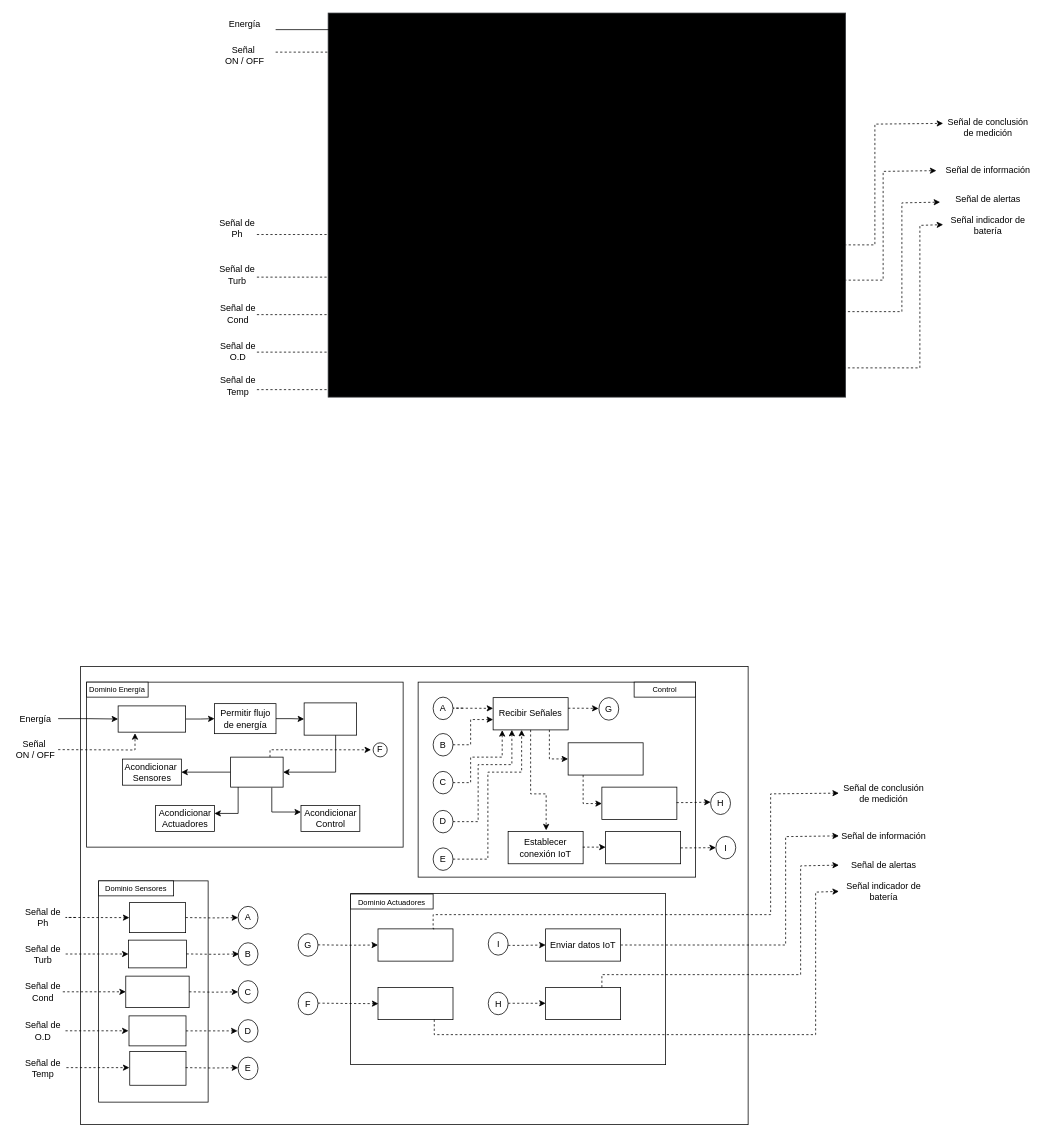
The diagram is 1046 pixels wide and 1139 high, and some of its shapes have lost their labels. The centre of each missing label's shape, as x and y in pixels:
Almacenar: the point at 256,771
Comparar variables: the point at 605,758
Común AC / DC: the point at 330,718
Ejecutar datos: the point at 643,847
Establecer alertas: the point at 639,802
Indicar Alertas: the point at 583,1003
Indicar datos: the point at 415,944
Indicar nivel de batería: the point at 415,1003
Recibir Energía: the point at 151,718
Sensar Conductividad: the point at 157,991
Sensar O.D: the point at 157,1030
Sensar Ph: the point at 157,917
Sensar Temperatura: the point at 157,1068
Sensar Turbidez: the point at 157,953
